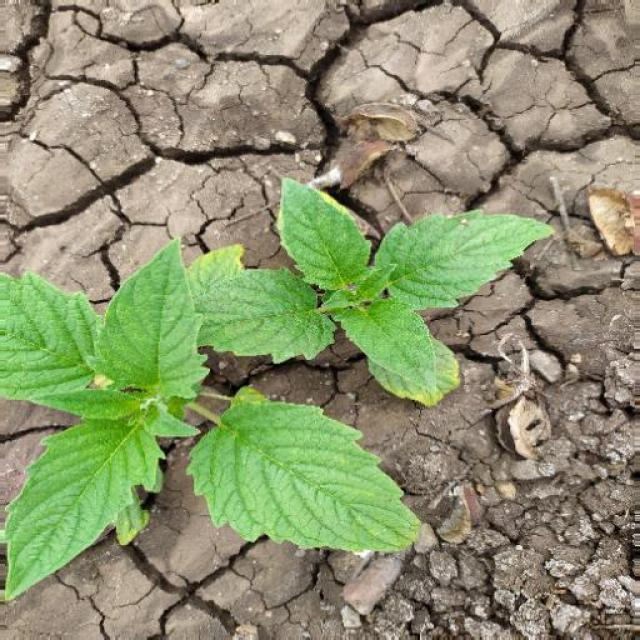crop: (1, 232, 424, 598), (180, 159, 555, 416)
